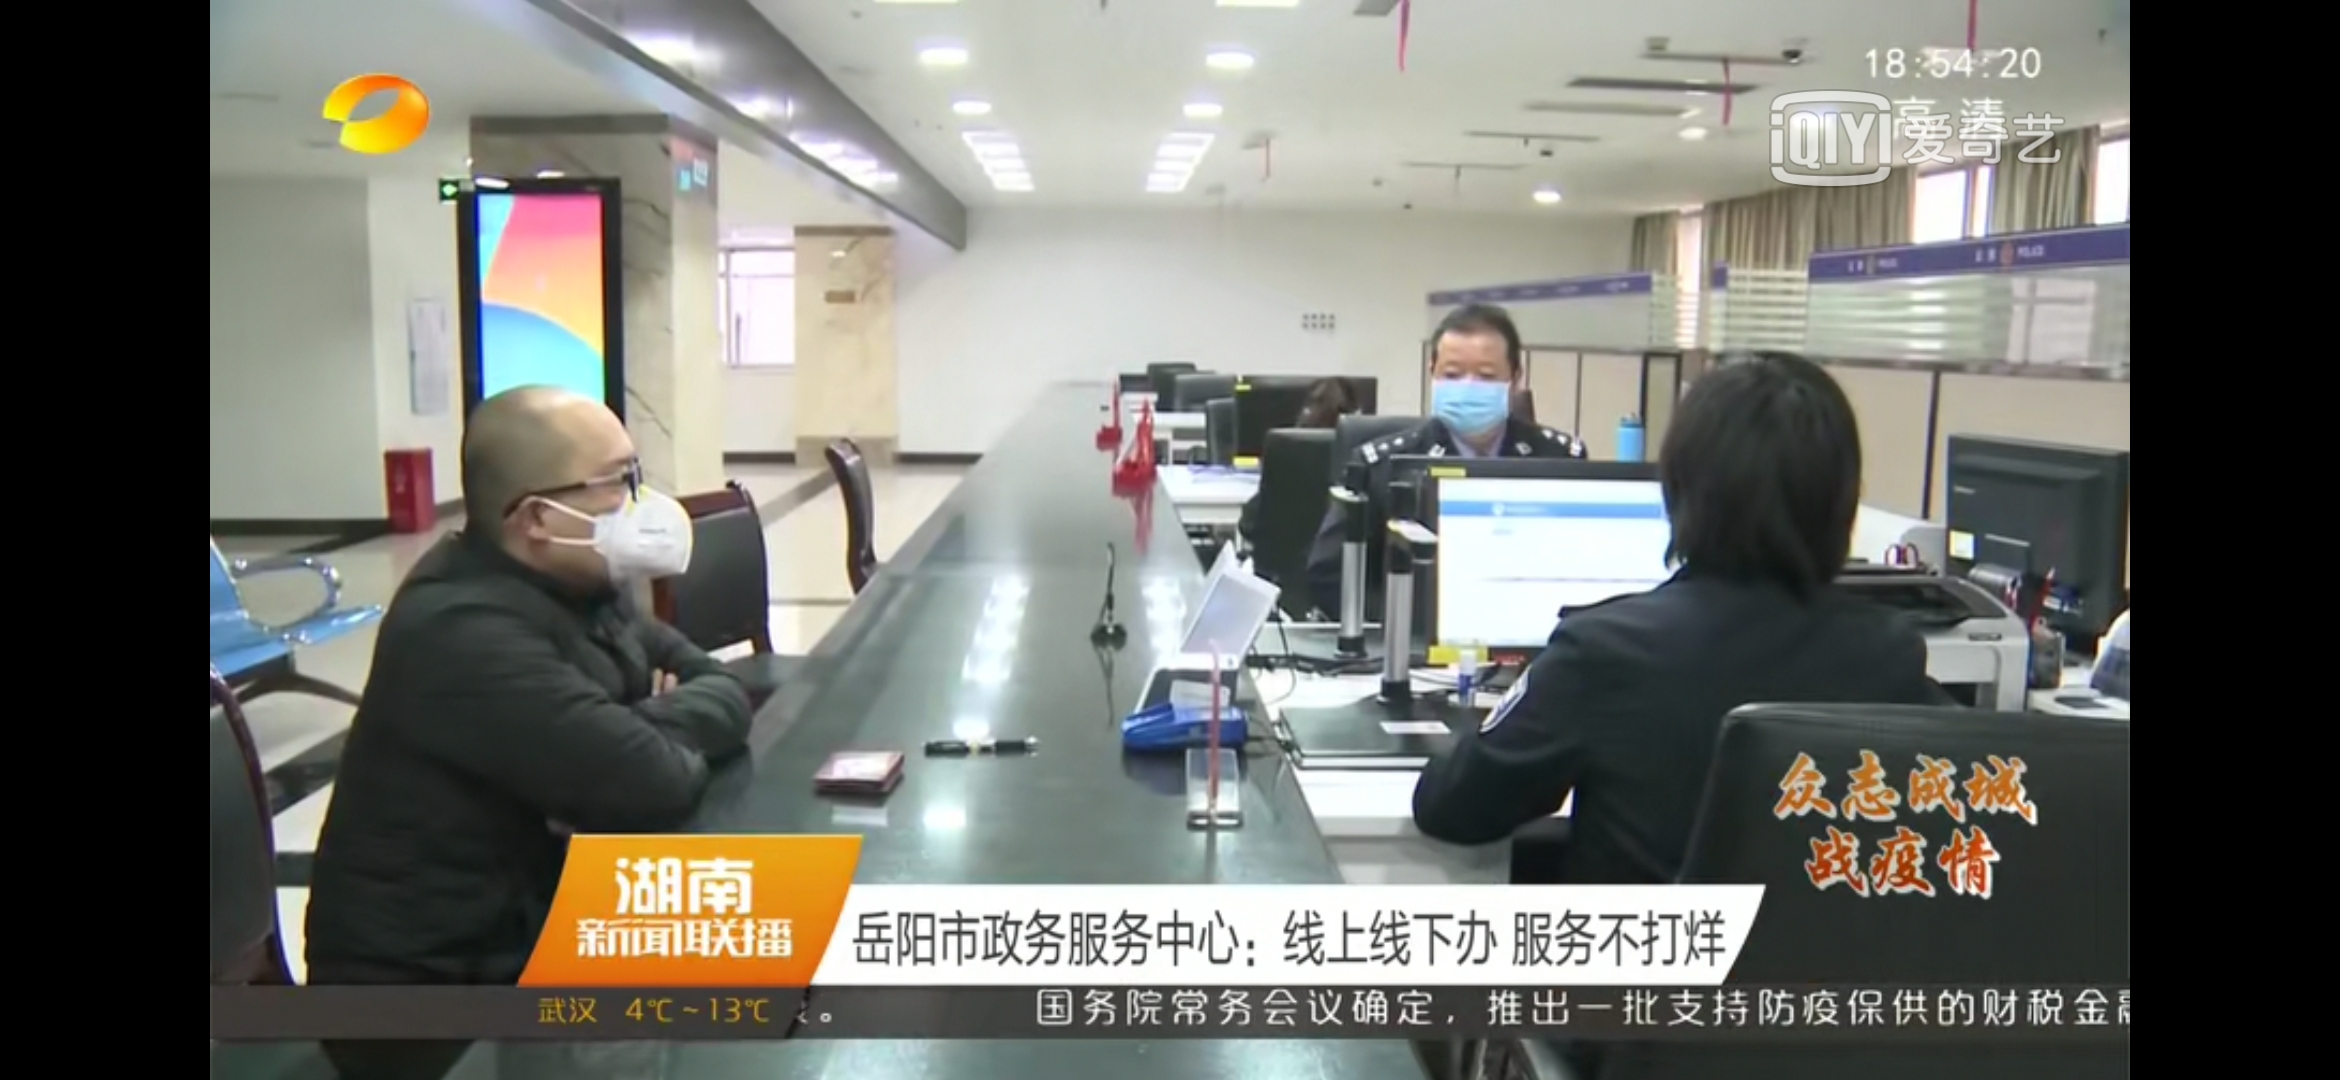correctlyWear: (510, 439, 694, 594), (1424, 349, 1519, 445)
